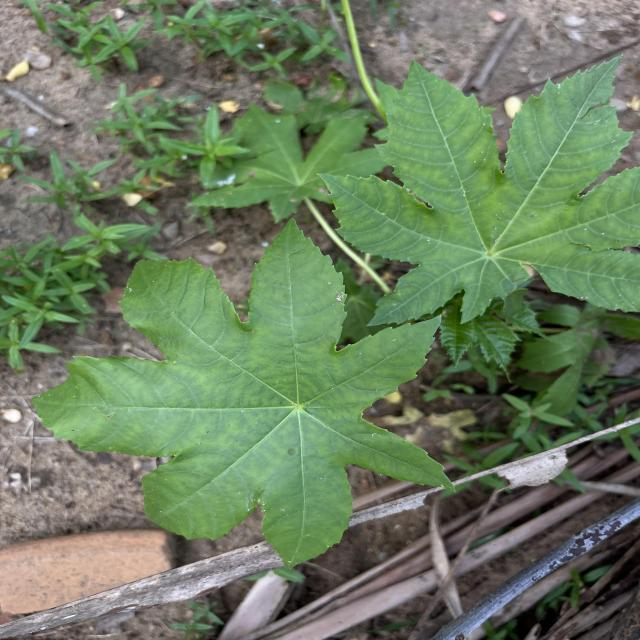Ricinus communis linn: (19, 210, 460, 574)
